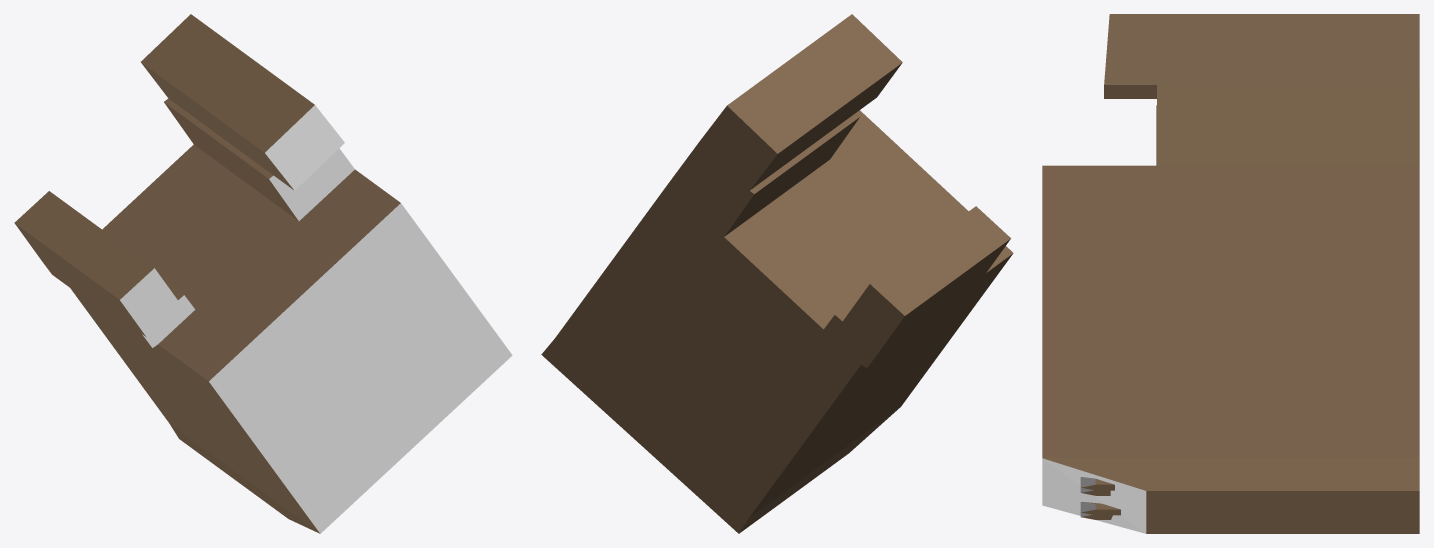
3 renders of one model, left to right at view 1: azimuth 30°, elevation 25°; view 2: azimuth 150°, elevation 25°; view 3: azimuth 270°, elevation 25°, orthographic. The views are drawn at different scales.
Parts seen in each view (by area): view 1: City_1565499; view 2: City_1565499; view 3: City_1565499.
Part boxes in pixels (x1,y1,x2,y2): City_1565499: [14, 14, 512, 533]; City_1565499: [541, 14, 1013, 533]; City_1565499: [1042, 14, 1419, 533].
Bounding box in the file's own units: 1815 × 2029 × 1317.
